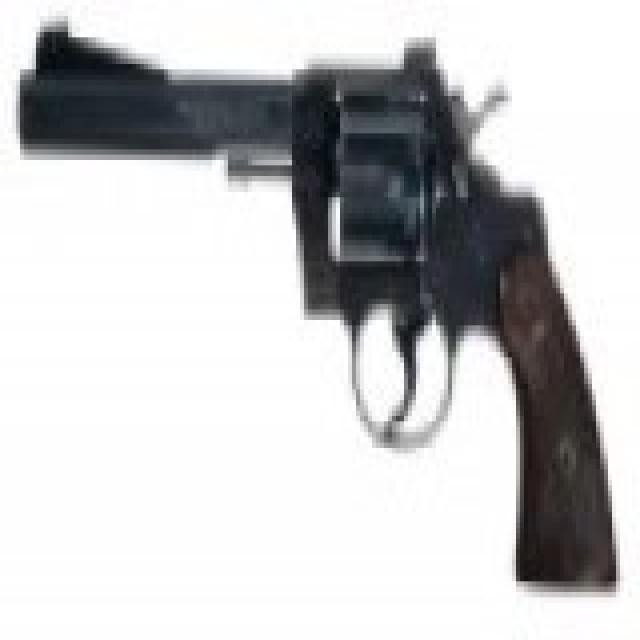Gun: (16, 19, 630, 611)
